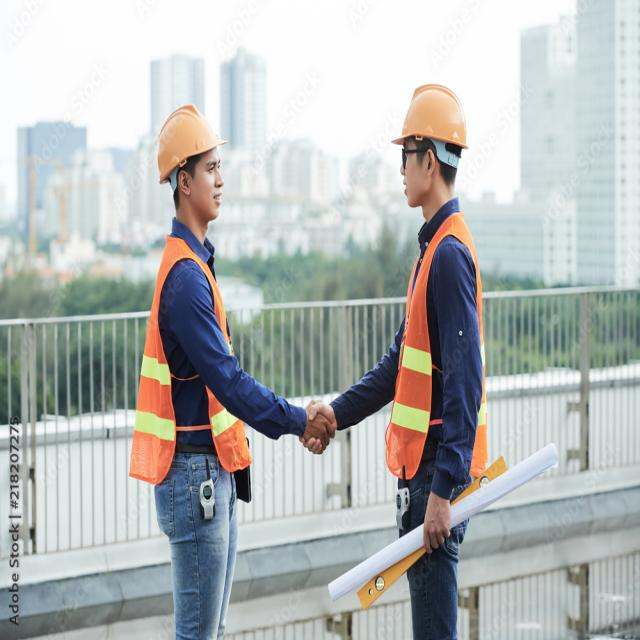goggles: (395, 144, 440, 166)
helmet: (154, 104, 220, 182), (399, 87, 472, 150)
no-goggles: (176, 156, 223, 177)
vest: (137, 238, 247, 470), (389, 228, 486, 475)
